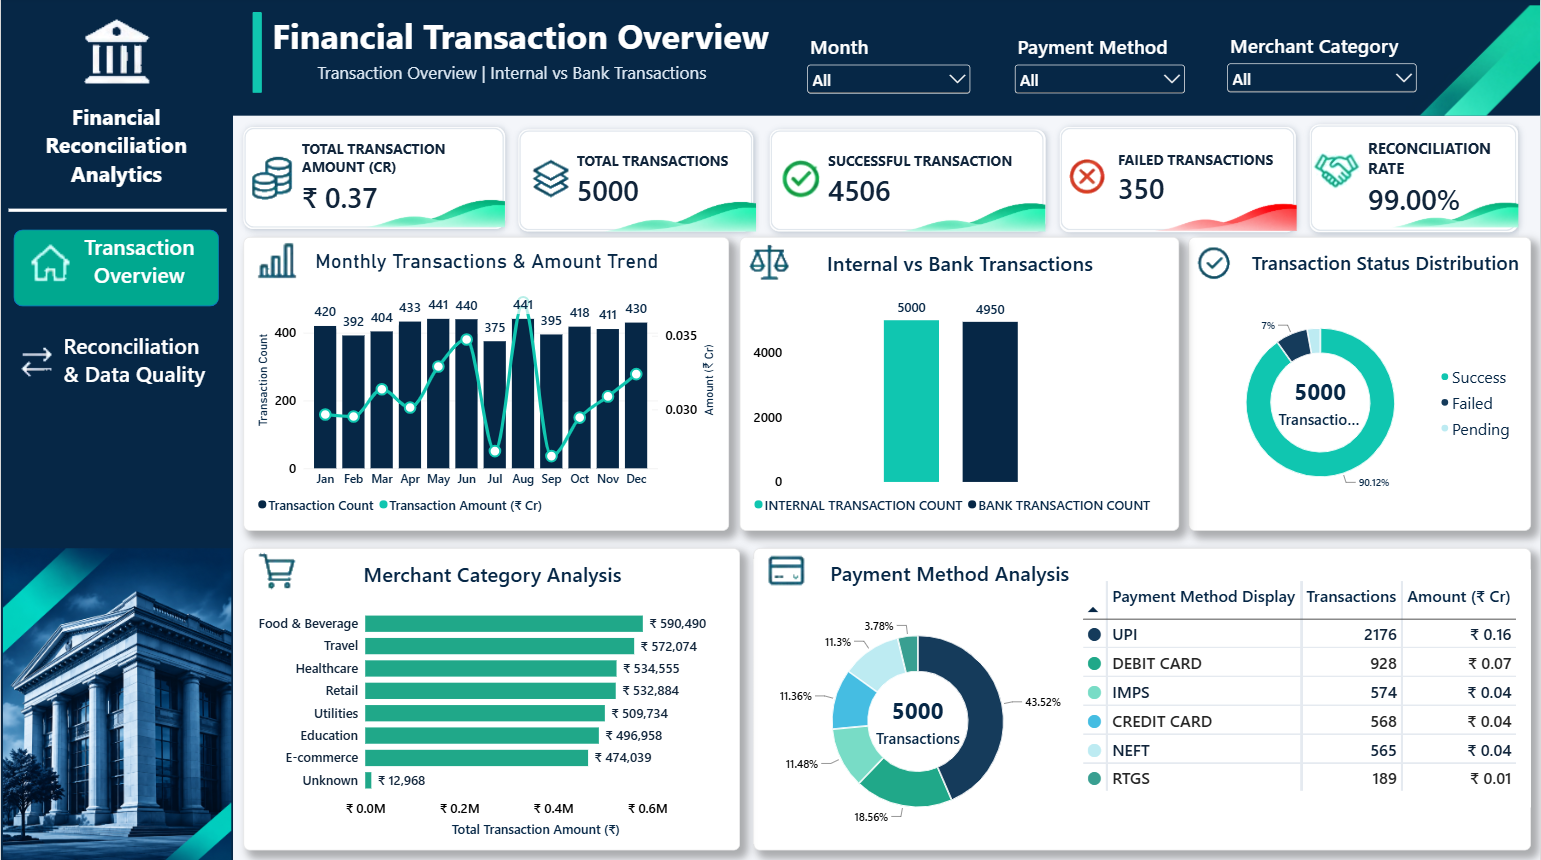

What the dashboard file says about the page in this screenshot:
{"tool":"powerbi","page":{"name":"Financial Transaction Overview","canvas":[1920,1080],"ordinal":0},"visuals":[{"type":"shape","box":[0,0,1920.4,148.3],"z":0},{"type":"textbox","box":[338.4,19.2,1466.9,111.6],"z":1000},{"type":"textbox","box":[394.2,80.2,551.2,50.6],"z":2000},{"type":"shape","box":[0,0,289.5,1079.7],"z":3000},{"type":"image","box":[0,687.2,289.5,392.4],"z":4000},{"type":"textbox","box":[15.7,130.8,256.4,158.7],"z":5000},{"type":"shape","box":[8.7,162.2,272.1,207.6],"z":6000},{"type":"shape","box":[314,19.2,12.2,101.2],"z":7000},{"type":"image","box":[8.7,423.8,69.8,62.8],"z":8000},{"type":"shape","box":[15.7,289.5,256.4,95.9],"z":9000},{"type":"textbox","box":[73.3,293,198.8,92.4],"z":10000},{"type":"image","box":[8.7,293,104.7,76.7],"z":11000},{"type":"image","box":[64.5,15.7,160.5,104.7],"z":12000},{"type":"textbox","box":[78.5,416.9,190.1,76.7],"z":13000},{"type":"cardVisual","fields":{"Data":["internal_transactions_clean.(CR) TOTAL TRANSACTION AMOUNT"]},"box":[301.7,162.2,326.2,127.3],"z":14000},{"type":"cardVisual","fields":{"Data":["internal_transactions_clean.TOTAL_TRANSACTIONS"]},"box":[645.4,165.7,293,127.3],"z":15000},{"type":"cardVisual","fields":{"Data":["internal_transactions_clean.SUCCESSFUL_TRANSACTION"]},"box":[959.3,165.7,343.6,127.3],"z":16000},{"type":"cardVisual","fields":{"Data":["internal_transactions_clean.FAILED_TRANSACTIONS"]},"box":[1320.4,162.2,294.8,130.8],"z":17000},{"type":"image","box":[268.6,188.4,139.5,75],"z":18000},{"type":"cardVisual","fields":{"Data":["internal_transactions_clean.Reconciliation Rate"]},"box":[1632.6,158.7,259.9,134.3],"z":19000},{"type":"image","box":[961,193.6,75,66.3],"z":20000},{"type":"image","box":[615.7,193.6,139.5,66.3],"z":21000},{"type":"image","box":[1302.9,193.6,102.9,61],"z":22000},{"type":"image","box":[1620.4,183.1,92.4,66.3],"z":23000},{"type":"image","box":[436,216.3,191.9,76.7],"z":24000},{"type":"image","box":[727.3,223.3,218,69.8],"z":25000},{"type":"image","box":[1001.2,226.7,404.7,66.3],"z":26000},{"type":"image","box":[1432,226.7,183.1,69.8],"z":27000},{"type":"image","box":[1718,205.8,174.4,104.7],"z":28000},{"type":"lineClusteredColumnComboChart","title":"Monthly Transactions & Amount Trend","fields":{"Category":["internal_transactions_clean.MONTH_SHORT"],"Y":["internal_transactions_clean.MONTHLY_TRANSACTIONS"],"Y2":["internal_transactions_clean.MONTHLY_AMOUNT_CR"]},"box":[301.7,300,605.2,366.3],"z":29000},{"type":"donutChart","title":"Transaction Status Distribution","fields":{"Category":["internal_transactions_clean.Transaction_Status"],"Y":["CountNonNull(internal_transactions_clean.Transaction_ID)"]},"box":[1480.8,300,427.3,366.3],"z":30000},{"type":"shape","box":[938.4,687.2,969.8,376.7],"z":31000},{"type":"donutChart","title":"Payment Method Analysis","fields":{"Category":["internal_transactions_clean.Payment_Method"],"Y":["CountNonNull(internal_transactions_clean.Transaction_ID)"]},"box":[938.4,701.2,409.9,354.1],"z":32000},{"type":"tableEx","title":"Payment Method Breakdown","fields":{"Values":["internal_transactions_clean.PAYMENT METHOD CIRCLE","internal_transactions_clean.Payment Method Display","internal_transactions_clean.Transaction_ID","internal_transactions_clean.(CR) TOTAL TRANSACTION AMOUNT"]},"box":[1332.6,713.4,575.6,296.5],"z":33000},{"type":"clusteredBarChart","title":"Merchant Category Analysis ","fields":{"Category":["internal_transactions_clean.Merchant_Category"],"Y":["Sum(internal_transactions_clean.Amount_INR)"]},"box":[301.7,687.2,619.2,376.7],"z":34000},{"type":"clusteredColumnChart","title":"Internal vs Bank Transactions","fields":{"Y":["internal_transactions_clean.INTERNAL TRANSACTION COUNT","internal_transactions_clean.BANK TRANSACTION COUNT"]},"box":[920.9,300,547.7,366.3],"z":35000},{"type":"image","box":[294.8,293,99.4,71.5],"z":36000},{"type":"image","box":[907,298.3,101.2,66.3],"z":37000},{"type":"image","box":[1449.4,301.7,125.6,59.3],"z":38000},{"type":"image","box":[280.8,682,127.3,69.8],"z":39000},{"type":"image","box":[945.4,680.2,69.8,71.5],"z":40000},{"type":"slicer","fields":{"Values":["internal_transactions_clean.MONTH_SHORT"]},"box":[1001.2,45.3,212.8,76.7],"z":41000},{"type":"slicer","fields":{"Values":["internal_transactions_clean.Payment_Method"]},"box":[1259.3,45.3,221.5,75],"z":42000},{"type":"slicer","fields":{"Values":["internal_transactions_clean.Merchant_Category"]},"box":[1524.4,43.6,245.9,76.7],"z":43000},{"type":"image","box":[1644.8,0,275.6,158.7],"z":44000}]}

Visuals, with their boxes in screenshot pixels (x1, y1, x2, y2), scaled from the page's 1920x1080 canvas onto the 1541x860 screenshot:
shape: bbox=[0, 0, 1540, 118]
textbox: bbox=[272, 15, 1449, 104]
textbox: bbox=[316, 64, 759, 104]
shape: bbox=[0, 0, 232, 859]
image: bbox=[0, 547, 232, 859]
textbox: bbox=[13, 104, 218, 231]
shape: bbox=[7, 129, 225, 294]
shape: bbox=[252, 15, 262, 96]
image: bbox=[7, 337, 63, 387]
shape: bbox=[13, 231, 218, 307]
textbox: bbox=[59, 233, 218, 307]
image: bbox=[7, 233, 91, 294]
image: bbox=[52, 13, 181, 96]
textbox: bbox=[63, 332, 216, 393]
cardVisual - internal_transactions_clean.(CR) TOTAL TRANSACTION AMOUNT: bbox=[242, 129, 504, 231]
cardVisual - internal_transactions_clean.TOTAL_TRANSACTIONS: bbox=[518, 132, 753, 233]
cardVisual - internal_transactions_clean.SUCCESSFUL_TRANSACTION: bbox=[770, 132, 1046, 233]
cardVisual - internal_transactions_clean.FAILED_TRANSACTIONS: bbox=[1060, 129, 1296, 233]
image: bbox=[216, 150, 328, 210]
cardVisual - internal_transactions_clean.Reconciliation Rate: bbox=[1310, 126, 1519, 233]
image: bbox=[771, 154, 831, 207]
image: bbox=[494, 154, 606, 207]
image: bbox=[1046, 154, 1128, 203]
image: bbox=[1301, 146, 1375, 199]
image: bbox=[350, 172, 504, 233]
image: bbox=[584, 178, 759, 233]
image: bbox=[804, 181, 1128, 233]
image: bbox=[1149, 181, 1296, 236]
image: bbox=[1379, 164, 1519, 247]
"Monthly Transactions & Amount Trend" lineClusteredColumnComboChart: bbox=[242, 239, 728, 531]
"Transaction Status Distribution" donutChart: bbox=[1188, 239, 1531, 531]
shape: bbox=[753, 547, 1532, 847]
"Payment Method Analysis" donutChart: bbox=[753, 558, 1082, 840]
"Payment Method Breakdown" tableEx: bbox=[1070, 568, 1532, 804]
"Merchant Category Analysis " clusteredBarChart: bbox=[242, 547, 739, 847]
"Internal vs Bank Transactions" clusteredColumnChart: bbox=[739, 239, 1179, 531]
image: bbox=[237, 233, 316, 290]
image: bbox=[728, 238, 809, 290]
image: bbox=[1163, 240, 1264, 287]
image: bbox=[225, 543, 328, 599]
image: bbox=[759, 542, 815, 599]
slicer - internal_transactions_clean.MONTH_SHORT: bbox=[804, 36, 974, 97]
slicer - internal_transactions_clean.Payment_Method: bbox=[1011, 36, 1188, 96]
slicer - internal_transactions_clean.Merchant_Category: bbox=[1223, 35, 1421, 96]
image: bbox=[1320, 0, 1540, 126]
